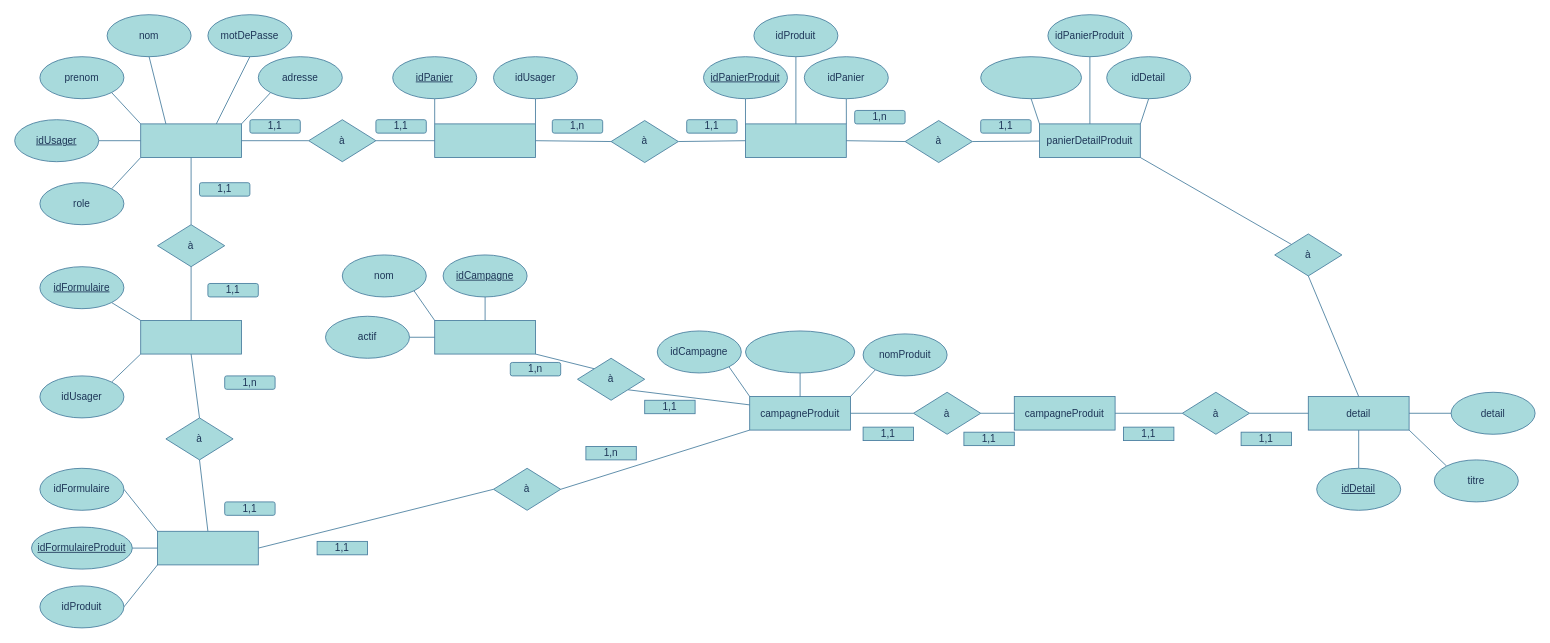
This 1550x643 diagram has some shape labels left out. The shapes that lost their labels are listed below. From the top down, each one's centre as x and y in pixels, then its label:
the point at 1031,77: idPanierDetailProduit
the point at 191,140: usager
the point at 485,140: panier
the point at 795,140: panierProduit
the point at 191,337: formulaire
the point at 485,337: campagne
the point at 800,351: idCampagneProduit
the point at 207,547: formulaireProduit
